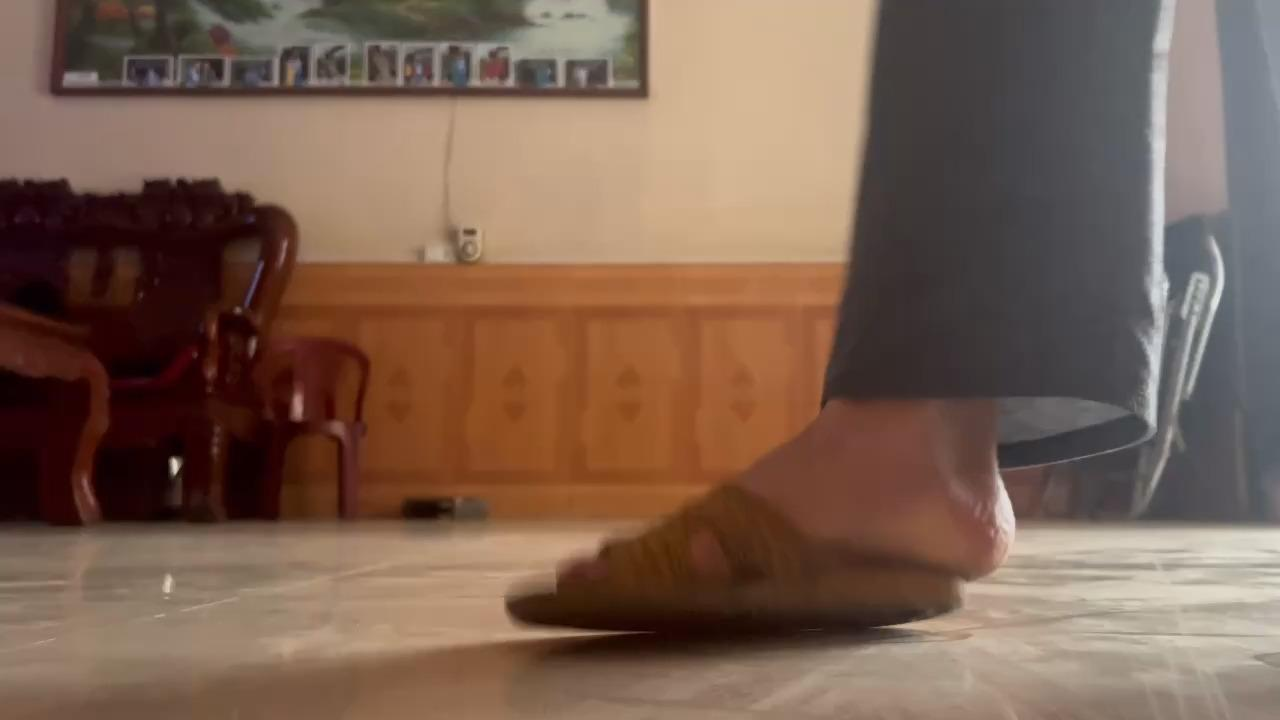no-boot: (477, 427, 1022, 647)
